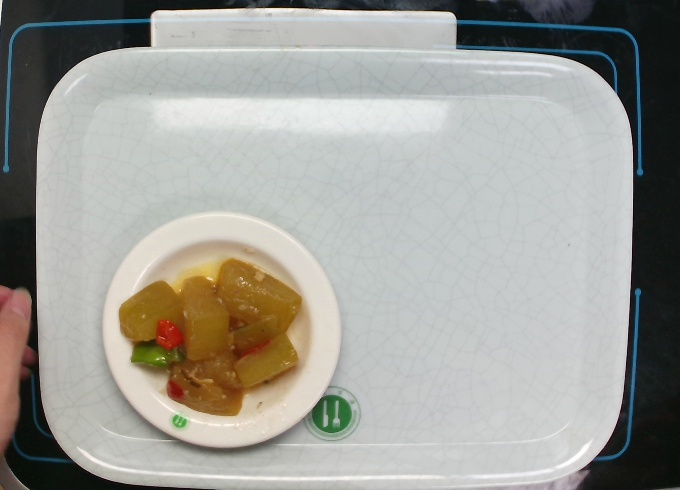WCQzf-Kuan_Bian_Yuan_Die: (99, 209, 343, 451)
